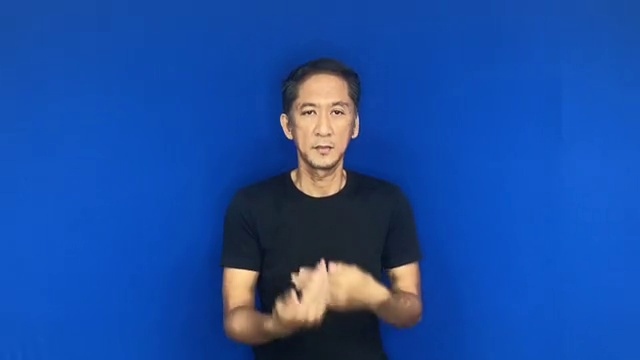bread: (276, 257, 376, 339)
